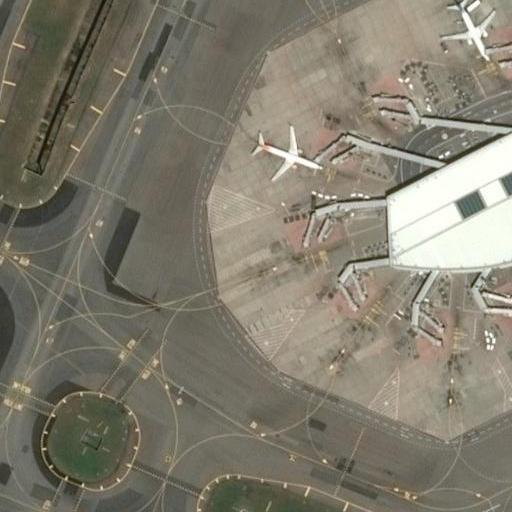Aircraft: (246, 122, 319, 180), (442, 0, 496, 63)
